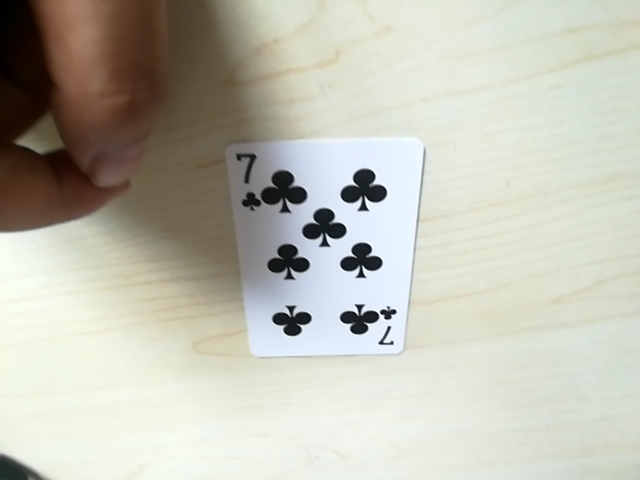mh 7: (231, 157, 277, 206), (361, 312, 400, 351)
